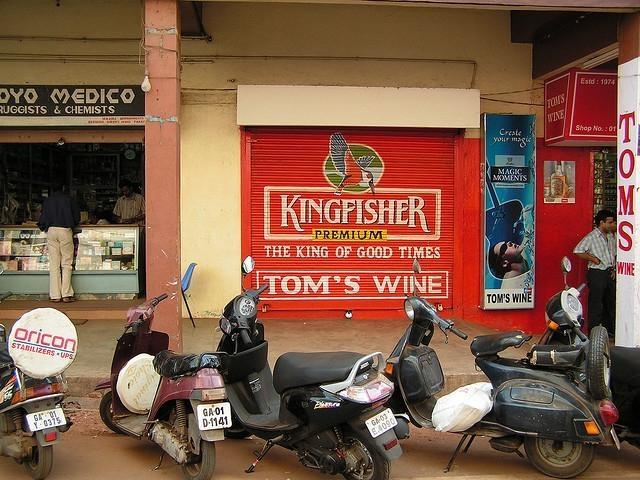motorcycle: (383, 256, 622, 478), (215, 256, 411, 480), (93, 293, 231, 480), (537, 256, 640, 450), (0, 309, 81, 480)
